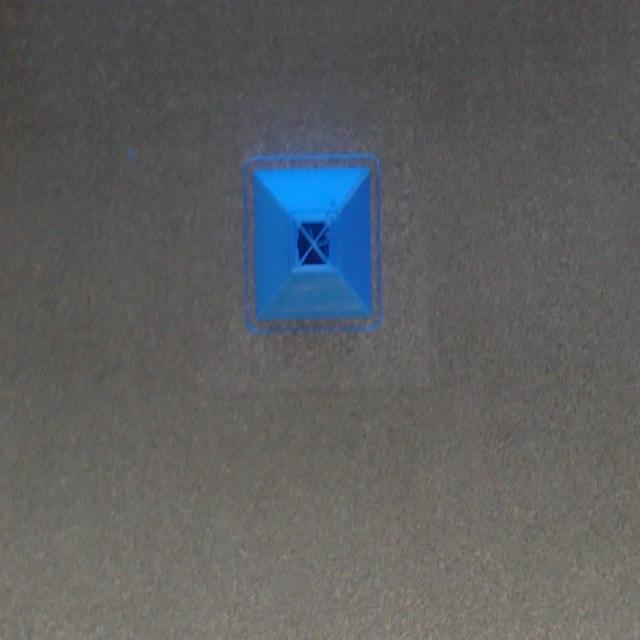mistake: (297, 221, 327, 265)
